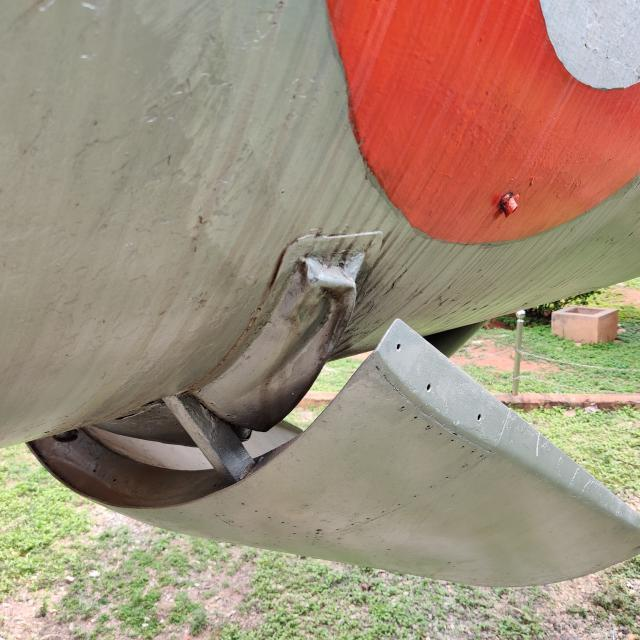dent: (256, 250, 374, 406)
